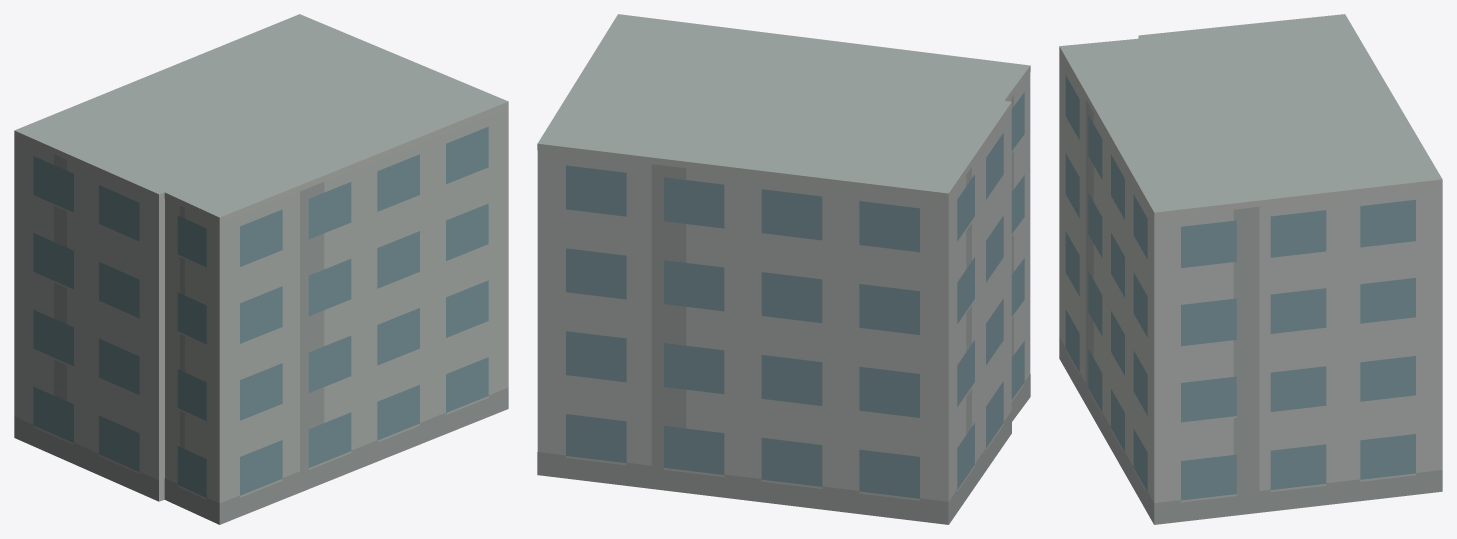
Rendered from residential-e7333dca-2a65-4b12-8ac7-b432a7068fbc.glb.
3 views of the same model, side by side, from view 1: azimuth 30°, elevation 25°; view 2: azimuth 150°, elevation 25°; view 3: azimuth 270°, elevation 25° (orthographic). The views are drawn at different scales.
Parts seen in each view (by area): view 1: residential-e7333dca-2a65-4b12-8ac7-b432a7068fbc.tmp; view 2: residential-e7333dca-2a65-4b12-8ac7-b432a7068fbc.tmp; view 3: residential-e7333dca-2a65-4b12-8ac7-b432a7068fbc.tmp.
Boxes of the visible parts, x1,y1,x2,y2 form: residential-e7333dca-2a65-4b12-8ac7-b432a7068fbc.tmp: (14, 14, 508, 524); residential-e7333dca-2a65-4b12-8ac7-b432a7068fbc.tmp: (537, 14, 1030, 524); residential-e7333dca-2a65-4b12-8ac7-b432a7068fbc.tmp: (1059, 14, 1442, 524).
Bounding box in the file's own units: 16.65 × 12.2 × 13.58.
